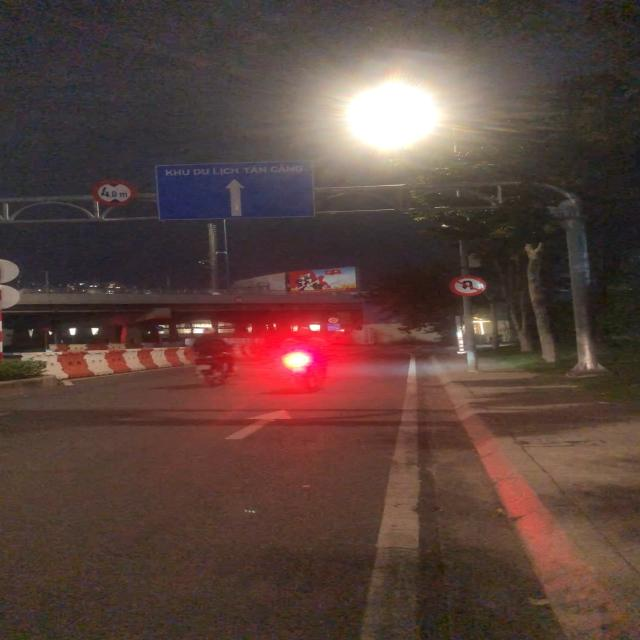Bien bao cam quay dau xe: (446, 274, 492, 297)
Bien bao han che chieu cao: (90, 178, 138, 206)
